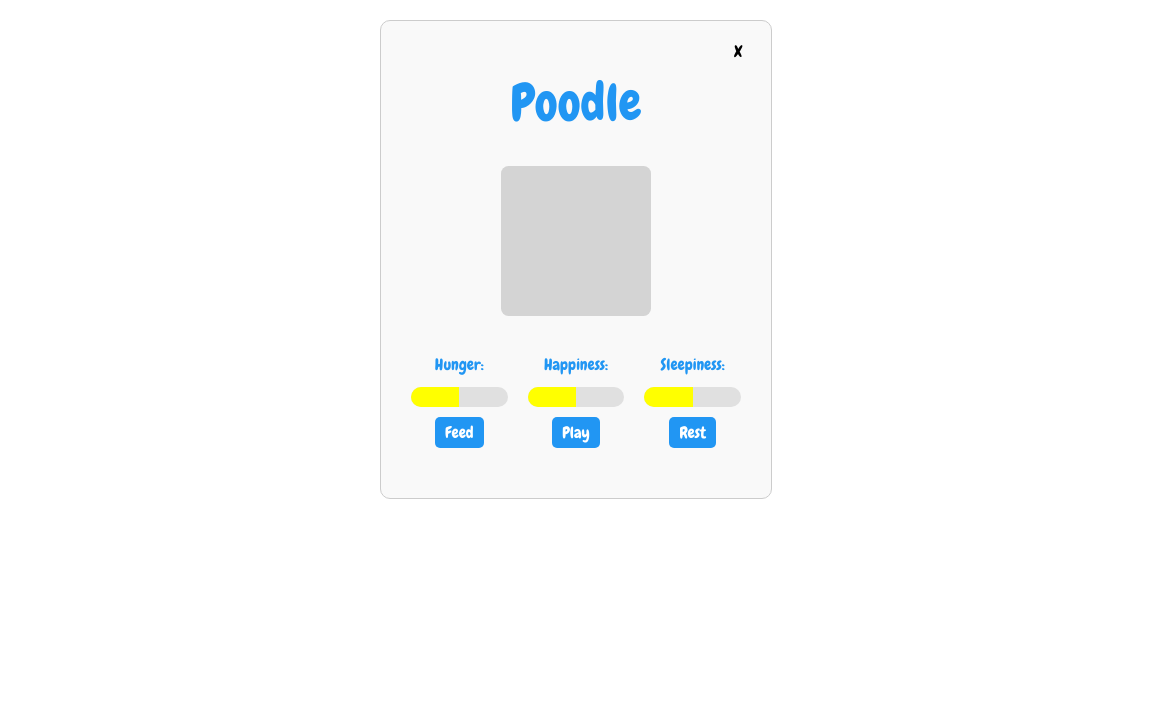
Test: Animal Component › shows confirmation dialog when removing an animal
Step 1. Click the button "X" → (738, 51), box 715,31 -> 761,71
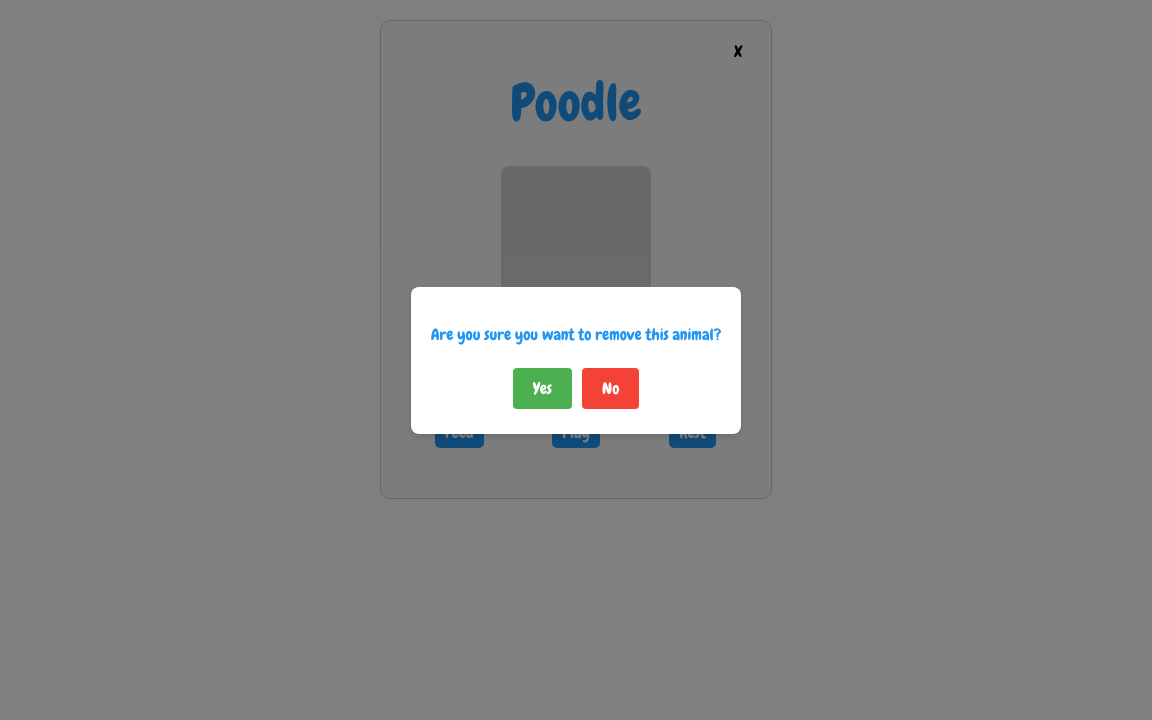
Now the text "Are you sure you want to remove this animal?" is shown, box 431,322 -> 721,346
